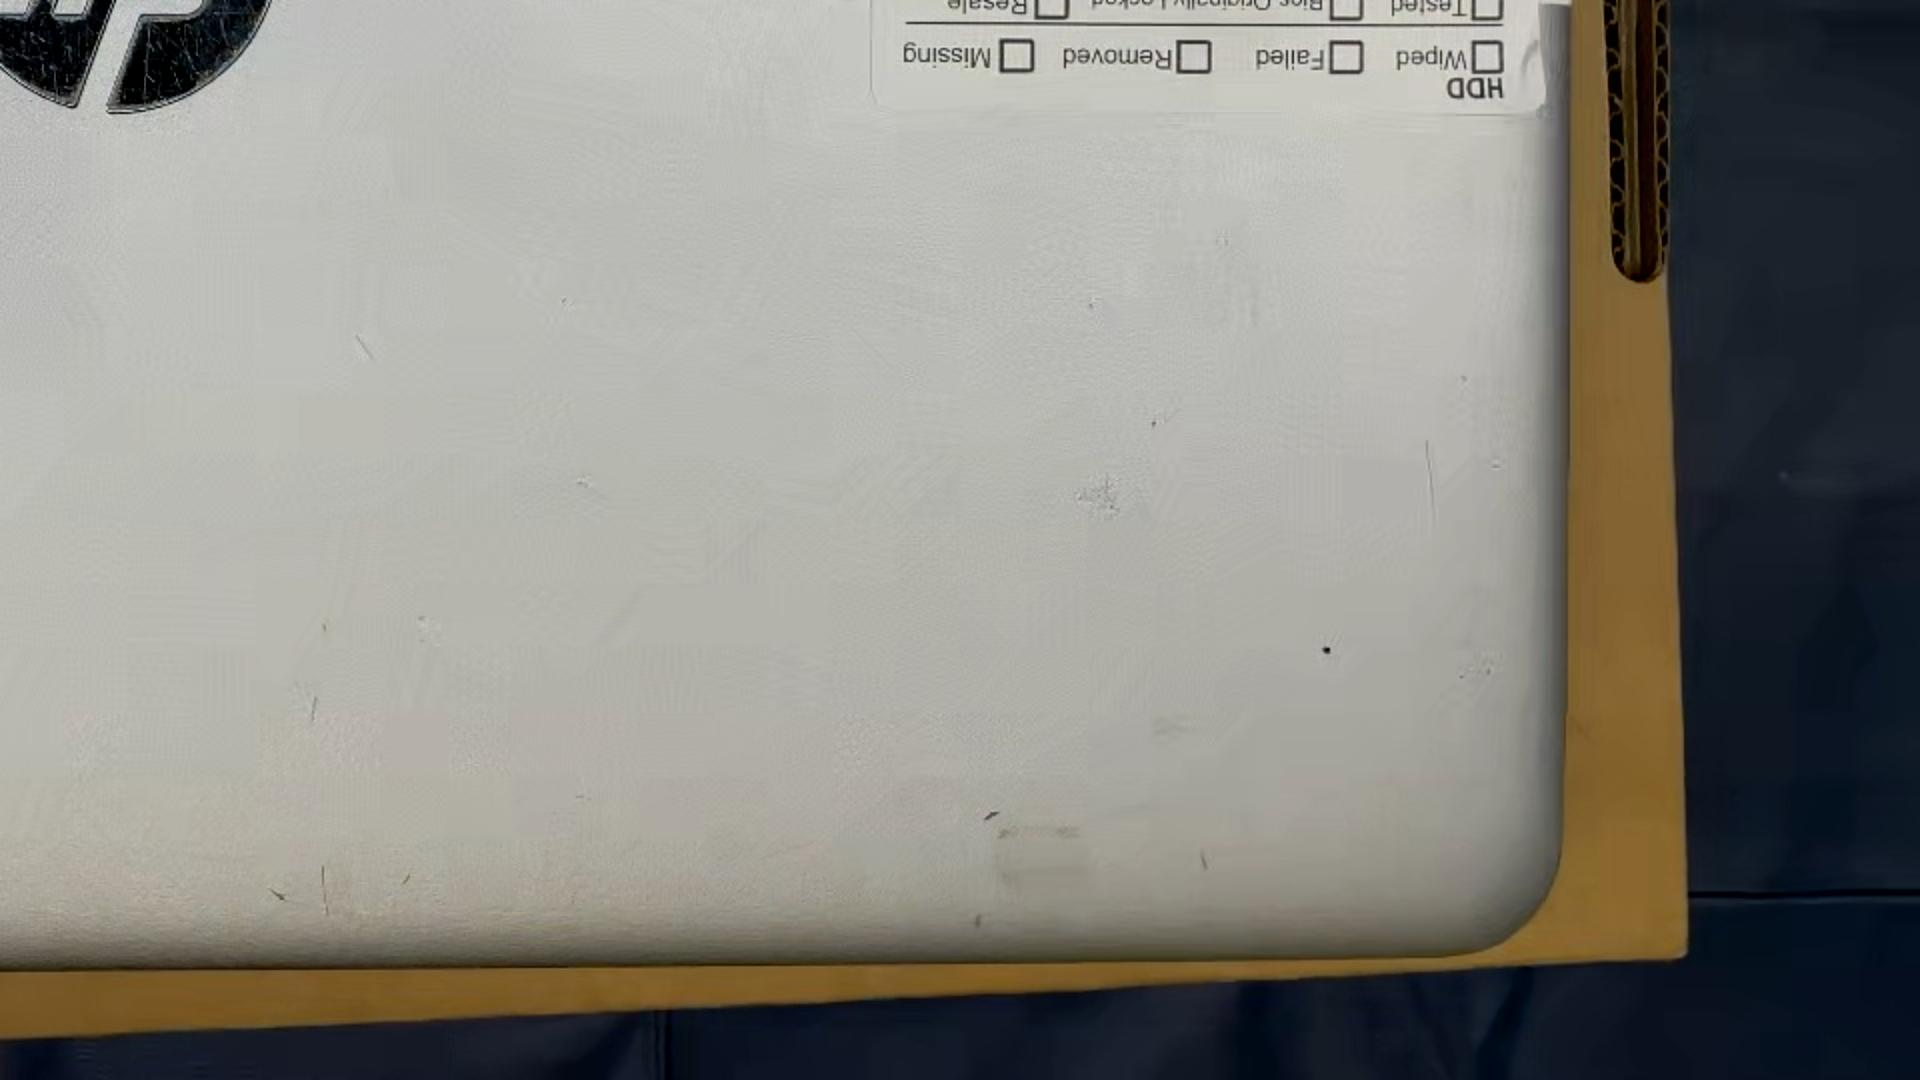chip: (980, 810, 1002, 823), (1319, 644, 1336, 655)
scratches: (1423, 436, 1443, 529), (320, 864, 331, 916), (264, 884, 289, 903), (307, 694, 322, 724), (400, 870, 413, 886)
